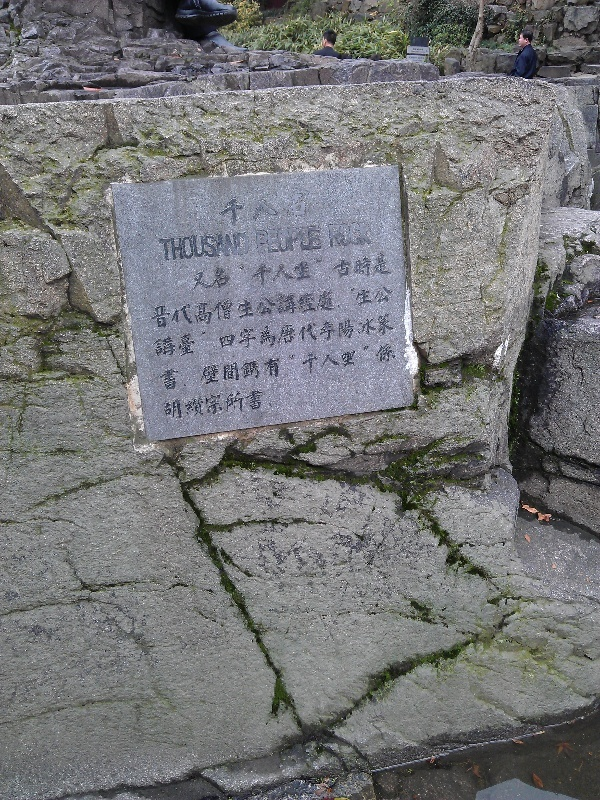text: (161, 341, 176, 393), (177, 341, 192, 393), (193, 341, 208, 393), (209, 341, 224, 393), (225, 341, 240, 393), (241, 341, 256, 393), (257, 341, 272, 393), (273, 341, 288, 393), (289, 341, 304, 393), (305, 341, 320, 393), (321, 341, 336, 393), (337, 341, 352, 393), (353, 341, 368, 393), (369, 341, 384, 393), (161, 280, 176, 331), (177, 280, 192, 331), (193, 280, 208, 331), (209, 280, 224, 331), (225, 280, 240, 331), (241, 280, 256, 331), (257, 280, 272, 331), (273, 280, 288, 331), (289, 280, 304, 331), (305, 280, 320, 331), (321, 280, 336, 331), (337, 280, 352, 331), (353, 280, 368, 331), (369, 280, 384, 331), (161, 311, 176, 358), (177, 311, 192, 358), (193, 311, 208, 358), (209, 311, 224, 358), (225, 311, 240, 358), (241, 311, 256, 358), (257, 311, 272, 358), (273, 311, 288, 358), (289, 311, 304, 358), (305, 311, 320, 358), (321, 311, 336, 358), (337, 311, 352, 358), (353, 311, 368, 358), (369, 311, 384, 358), (385, 341, 398, 393), (193, 251, 208, 293), (209, 251, 224, 293), (225, 251, 240, 293), (241, 251, 256, 293), (257, 251, 272, 293), (273, 251, 288, 293), (289, 251, 304, 293), (305, 251, 320, 293), (321, 251, 336, 293), (337, 251, 352, 293), (353, 251, 368, 293), (369, 251, 384, 293), (225, 190, 240, 226), (241, 190, 256, 226), (257, 190, 272, 226), (273, 190, 288, 226), (289, 190, 304, 226), (257, 388, 273, 421), (385, 311, 396, 358), (161, 230, 176, 264), (177, 230, 192, 264), (193, 230, 208, 264), (209, 230, 224, 264), (225, 230, 240, 264), (150, 280, 160, 331), (177, 388, 192, 421), (193, 388, 208, 421), (209, 388, 224, 421), (225, 388, 240, 421), (241, 388, 256, 421), (257, 224, 272, 256), (273, 224, 288, 256), (289, 224, 304, 256), (305, 224, 320, 256), (162, 388, 176, 421), (151, 311, 160, 358), (385, 280, 393, 331), (337, 221, 352, 248), (353, 221, 368, 248), (241, 230, 251, 264), (217, 190, 224, 226), (385, 251, 391, 293), (327, 221, 336, 248), (305, 190, 311, 226), (189, 251, 192, 293), (369, 221, 373, 248), (158, 230, 160, 264), (254, 224, 256, 256), (321, 224, 323, 256), (159, 341, 160, 393), (417, 56, 425, 60), (409, 56, 416, 60), (417, 48, 424, 51), (417, 51, 425, 53), (417, 60, 423, 62), (411, 51, 416, 53), (413, 48, 416, 51), (413, 60, 416, 62)
